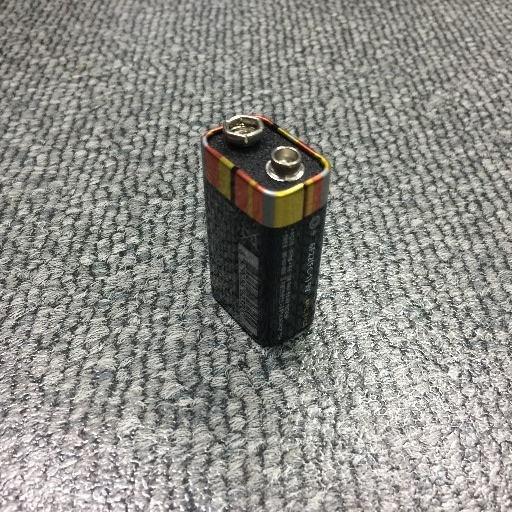Battery_3: (193, 103, 338, 361)
